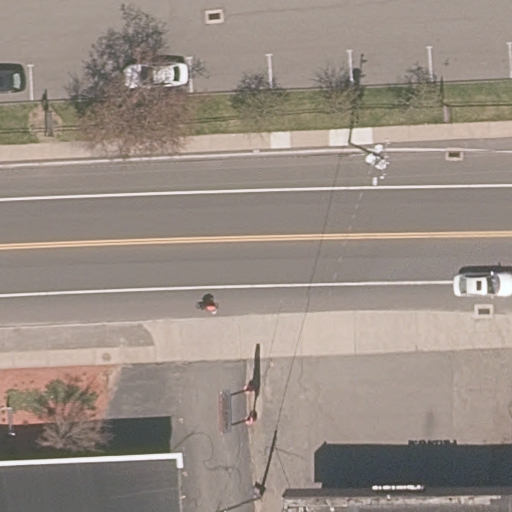DT: (366, 142, 393, 188)
